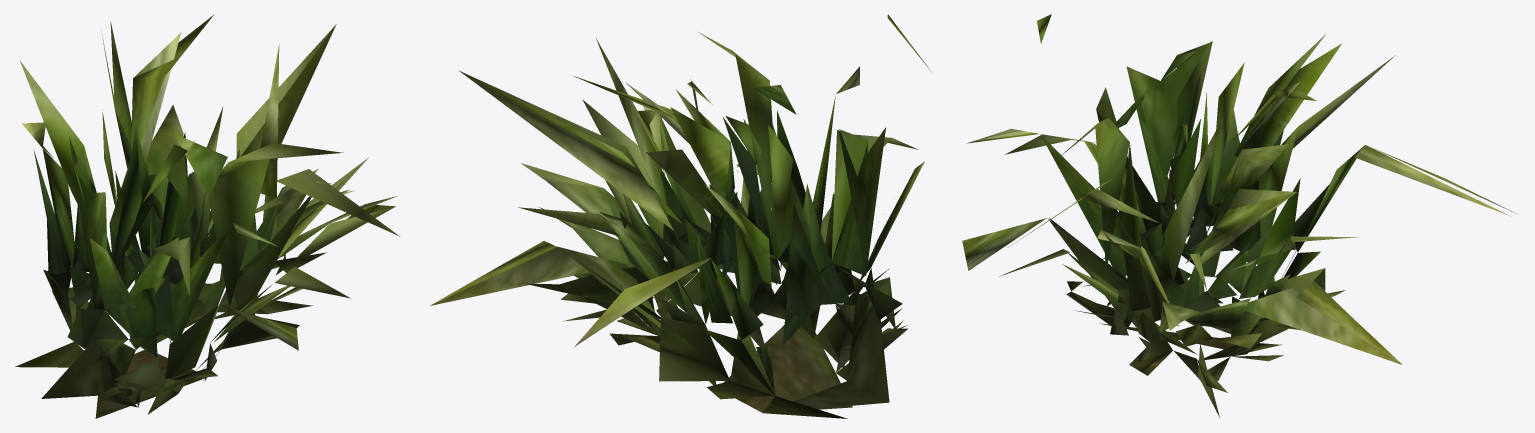
Rendered from grass_tuft_2_lite.glb.
3 views of the same model, side by side, from view 1: azimuth 30°, elevation 25°; view 2: azimuth 150°, elevation 25°; view 3: azimuth 270°, elevation 25° (orthographic). The views are drawn at different scales.
Visible parts, largest first — view 1: tripo_node_7ac3d90a-8751-476c-9687-198a5a3f9aa1.003; view 2: tripo_node_7ac3d90a-8751-476c-9687-198a5a3f9aa1.003; view 3: tripo_node_7ac3d90a-8751-476c-9687-198a5a3f9aa1.003.
Part boxes in pixels (x1,y1,x2,y2): tripo_node_7ac3d90a-8751-476c-9687-198a5a3f9aa1.003: [15, 15, 399, 418]; tripo_node_7ac3d90a-8751-476c-9687-198a5a3f9aa1.003: [430, 14, 930, 418]; tripo_node_7ac3d90a-8751-476c-9687-198a5a3f9aa1.003: [962, 14, 1518, 417].
Size of the model in its own units: 0.352 by 0.313 by 0.4585.
1 material, 1 textured.
